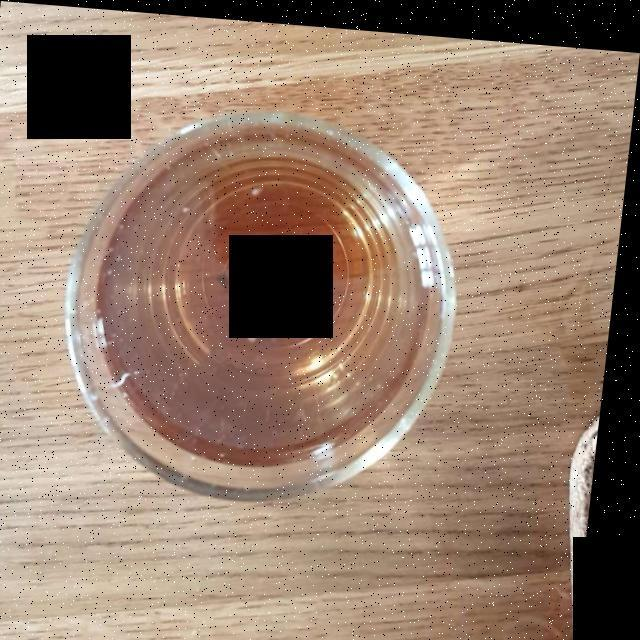water: (108, 132, 433, 441)
